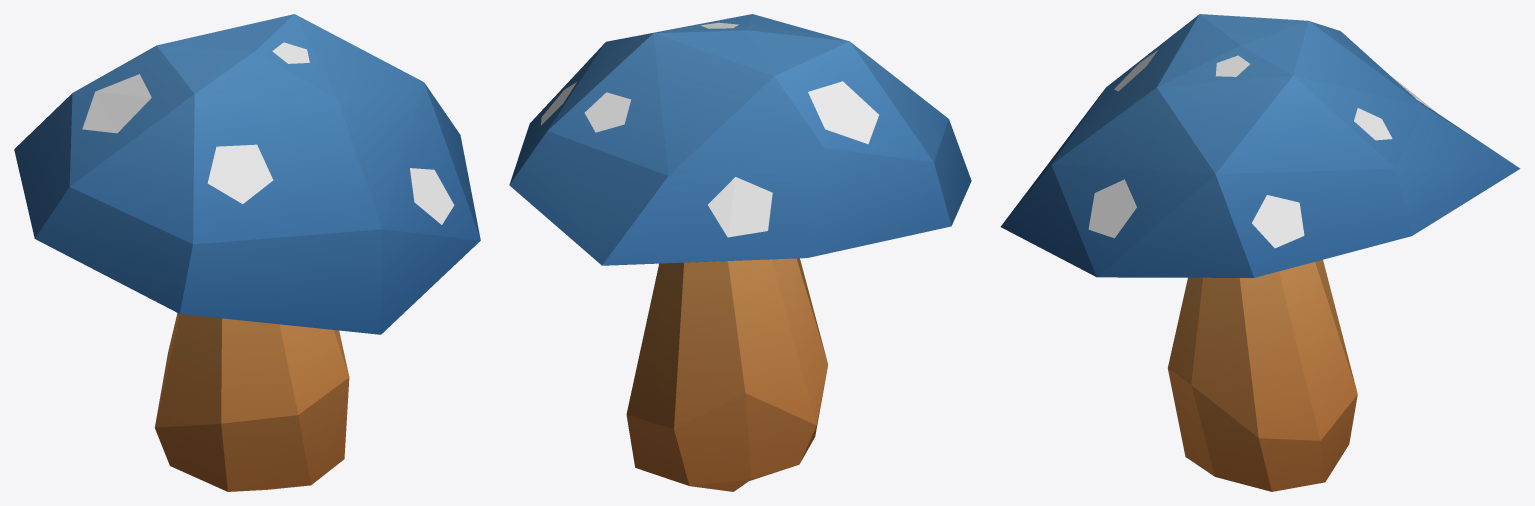
Rendered from Mushroom_Blue_Giant_01.fbx.
The picture shows the model from 3 angles, left to right: view 1: azimuth 30°, elevation 25°; view 2: azimuth 150°, elevation 25°; view 3: azimuth 270°, elevation 25°; orthographic projection. The views are drawn at different scales.
Parts seen in each view (by area): view 1: Mushroom_Blue_Giant; view 2: Mushroom_Blue_Giant; view 3: Mushroom_Blue_Giant.
Boxes of the visible parts, box(x1,y1,x2,y2) form: Mushroom_Blue_Giant: box(14, 14, 480, 491); Mushroom_Blue_Giant: box(509, 14, 971, 491); Mushroom_Blue_Giant: box(1000, 14, 1520, 491).
Size of the model in its own units: 3.6 by 3.6 by 4.
